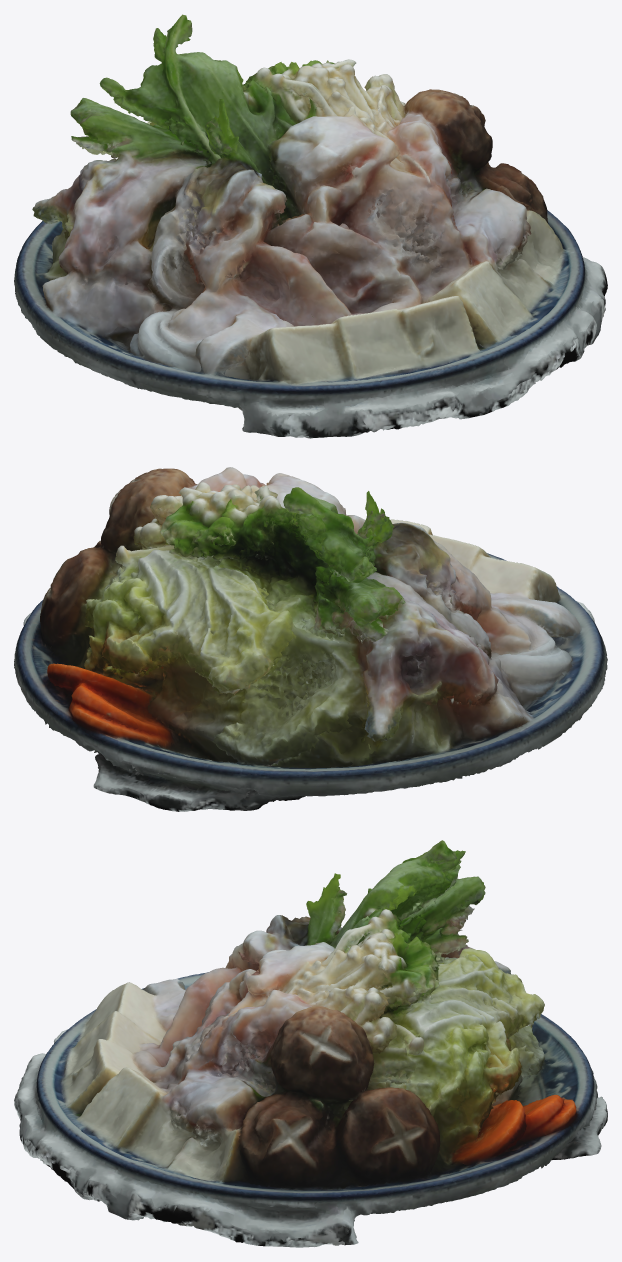
The model's file is nabe-splatfacto.glb.
The picture shows the model from 3 angles, top to bottom: view 1: azimuth 30°, elevation 25°; view 2: azimuth 150°, elevation 25°; view 3: azimuth 270°, elevation 25°; orthographic projection. The views are drawn at different scales.
Parts seen in each view (by area): view 1: Nabe; view 2: Nabe; view 3: Nabe.
Boxes of the visible parts, x1=… form: Nabe: x1=14, y1=14, x2=607, y2=438; Nabe: x1=14, y1=467, x2=607, y2=811; Nabe: x1=14, y1=840, x2=607, y2=1247.
Bounding box in the file's own units: 0.2627 × 0.129 × 0.2696.
Materials: 1 (1 with a texture image).
